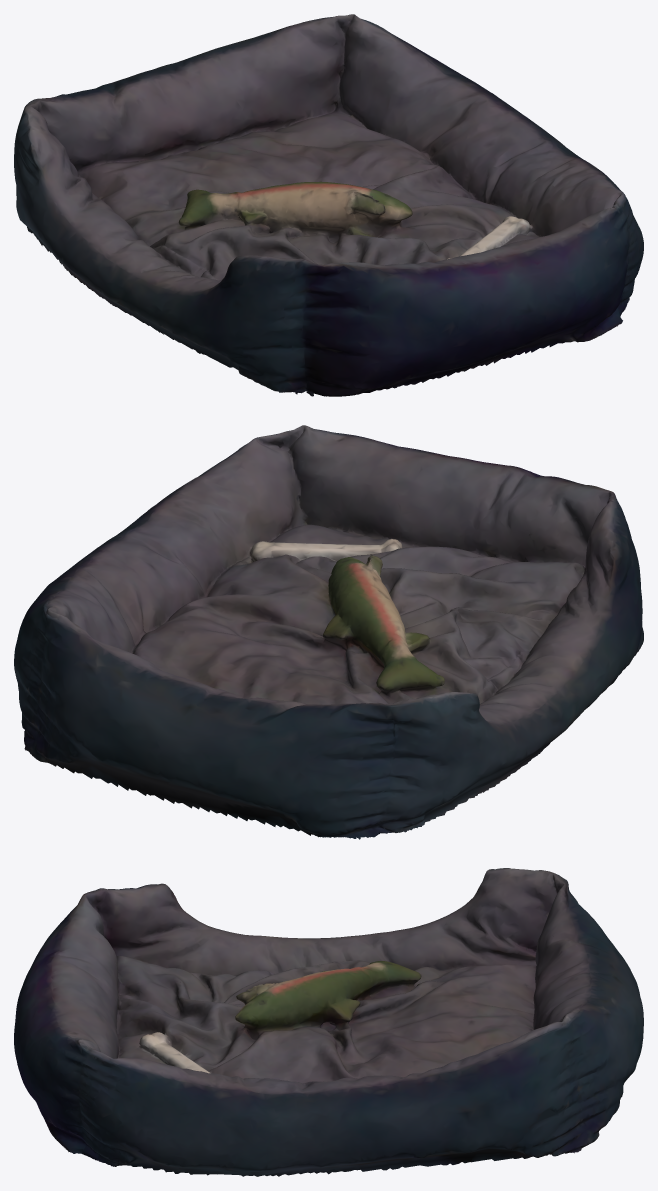
File: dogbed.glb
The picture shows the model from 3 angles, top to bottom: view 1: azimuth 30°, elevation 25°; view 2: azimuth 150°, elevation 25°; view 3: azimuth 270°, elevation 25°; orthographic projection. The views are drawn at different scales.
Parts seen in each view (by area): view 1: dog_bed_scan; view 2: dog_bed_scan; view 3: dog_bed_scan.
Boxes of the visible parts, <box> form: dog_bed_scan: <box>14,14,643,396</box>; dog_bed_scan: <box>14,425,643,839</box>; dog_bed_scan: <box>14,868,643,1176</box>.
Size of the model in its own units: 0.7483 by 0.2051 by 0.9259.
